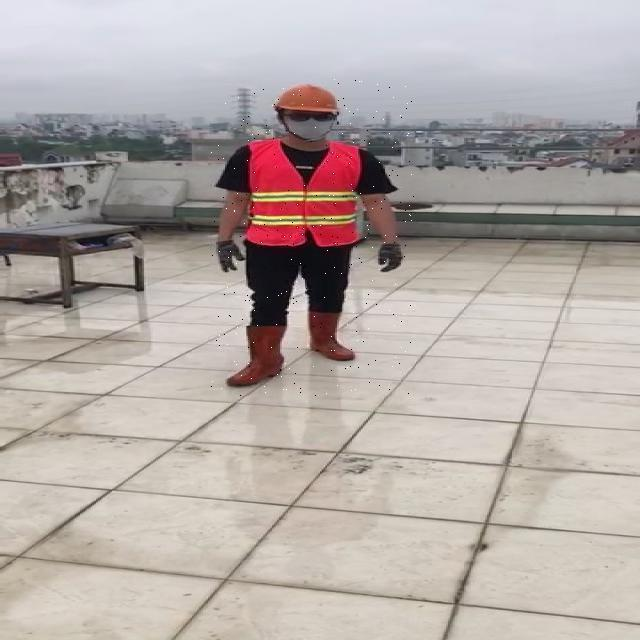helmet: (273, 80, 343, 114)
safety_vest: (242, 140, 364, 246)
